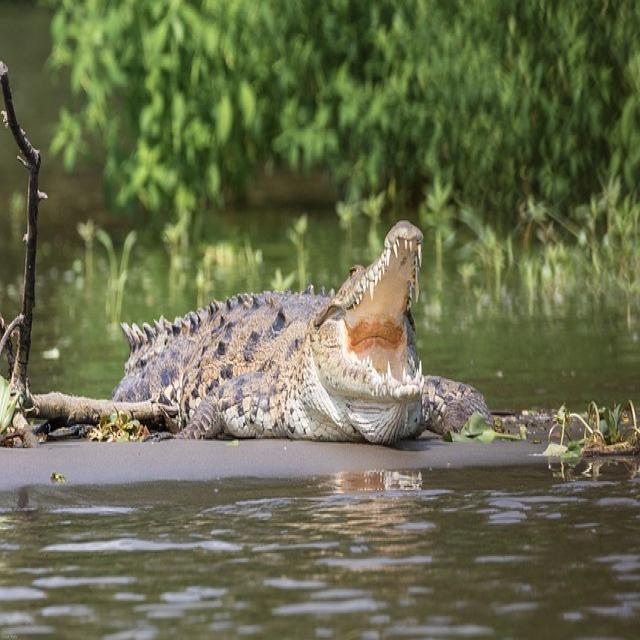Carnivorous: (84, 222, 486, 447)
